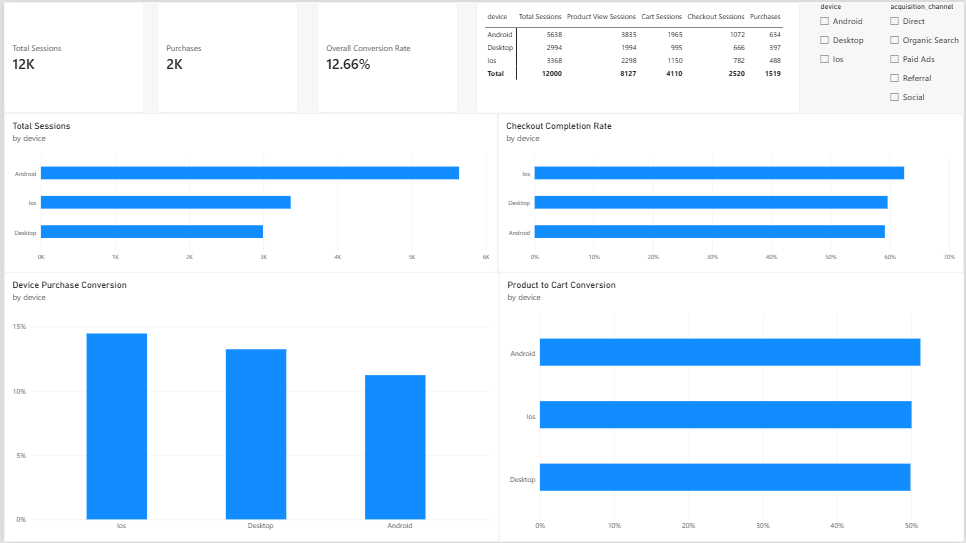

This screenshot's page, from the dashboard's own definition file:
{"tool":"powerbi","page":{"name":"Device Comparison","canvas":[1920,1080],"ordinal":1},"visuals":[{"type":"cardVisual","fields":{"Data":["SessionFunnel.Total Sessions"]},"box":[0,0,280,222],"z":0},{"type":"cardVisual","fields":{"Data":["SessionFunnel.Purchases"]},"box":[308,0,280,222],"z":1000},{"type":"cardVisual","fields":{"Data":["SessionFunnel.Overall Conversion Rate"]},"box":[628,0,280,222],"z":2000},{"type":"clusteredBarChart","fields":{"Category":["SessionFunnel.device"],"Y":["SessionFunnel.Total Sessions"]},"box":[0,222,988,318],"z":3000},{"type":"clusteredColumnChart","fields":{"Category":["SessionFunnel.device"],"Y":["SessionFunnel.Device Purchase Conversion"]},"box":[0,540,990,540],"z":4000},{"type":"pivotTable","fields":{"Rows":["SessionFunnel.device"],"Values":["SessionFunnel.Total Sessions","SessionFunnel.Product View Sessions","SessionFunnel.Cart Sessions","SessionFunnel.Checkout Sessions","SessionFunnel.Purchases"]},"box":[944,0,646,222],"z":5000},{"type":"barChart","fields":{"Category":["SessionFunnel.device"],"Y":["SessionFunnel.Checkout Completion Rate"]},"box":[988,222,932,318],"z":6000},{"type":"barChart","fields":{"Category":["SessionFunnel.device"],"Y":["SessionFunnel.Product to Cart Conversion"]},"box":[990,540,930,540],"z":7000},{"type":"slicer","fields":{"Values":["funnel_events_clean.acquisition_channel"]},"box":[1766,0,154,222],"z":8000},{"type":"slicer","fields":{"Values":["funnel_events_clean.device"]},"box":[1626,0,120,222],"z":9000}]}

Visuals, with their boxes in screenshot pixels (x1, y1, x2, y2), scaled from the page's 1920x1080 canvas onto the 966x543 screenshot:
cardVisual - SessionFunnel.Total Sessions: [0,0,141,112]
cardVisual - SessionFunnel.Purchases: [155,0,296,112]
cardVisual - SessionFunnel.Overall Conversion Rate: [316,0,457,112]
clusteredBarChart - SessionFunnel.device x SessionFunnel.Total Sessions: [0,112,497,272]
clusteredColumnChart - SessionFunnel.device x SessionFunnel.Device Purchase Conversion: [0,272,498,542]
pivotTable - SessionFunnel.device x SessionFunnel.Total Sessions: [475,0,800,112]
barChart - SessionFunnel.device x SessionFunnel.Checkout Completion Rate: [497,112,965,272]
barChart - SessionFunnel.device x SessionFunnel.Product to Cart Conversion: [498,272,965,542]
slicer - funnel_events_clean.acquisition_channel: [889,0,965,112]
slicer - funnel_events_clean.device: [818,0,878,112]
